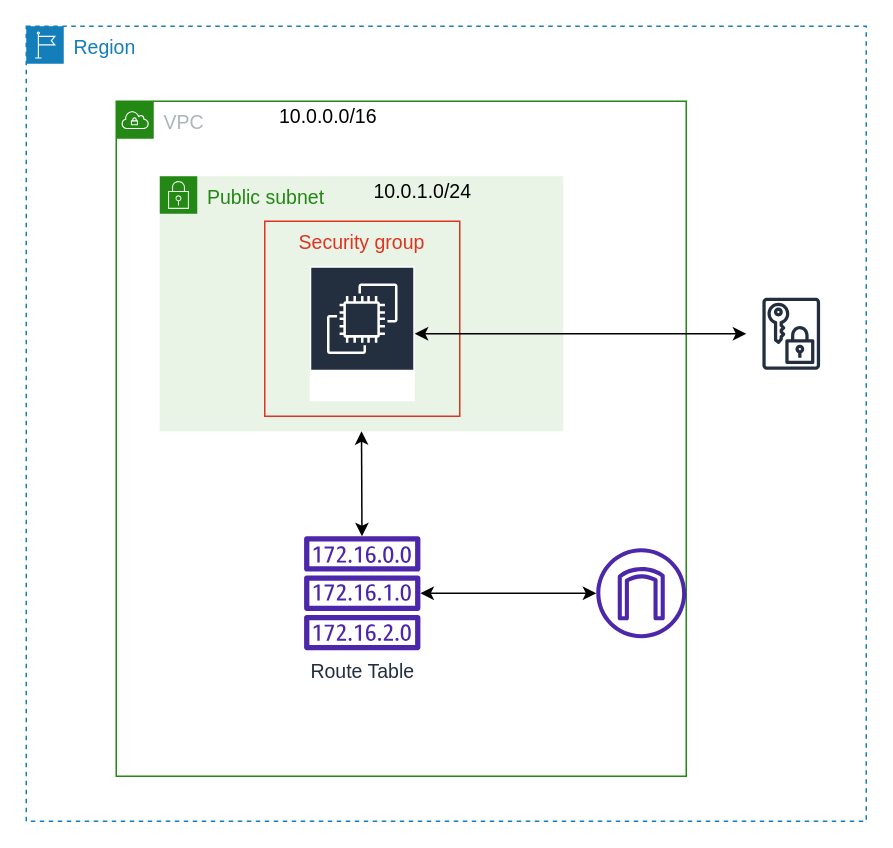
Some shapes in this 893 by 848 pixel diagram are drawn without their labels. The shapes that lost their labels are listed below. From the top down, each one's centre as x and y in pixels, then its label:
the point at 361,333: EC2 Instance
the point at 790,333: Key Pair
the point at 641,593: Internet Gateway
